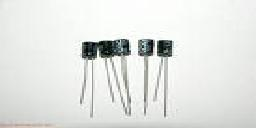Electrolytic-capacitor: (154, 38, 177, 125), (99, 37, 124, 111), (78, 38, 99, 116), (137, 37, 157, 117), (115, 36, 134, 57)
